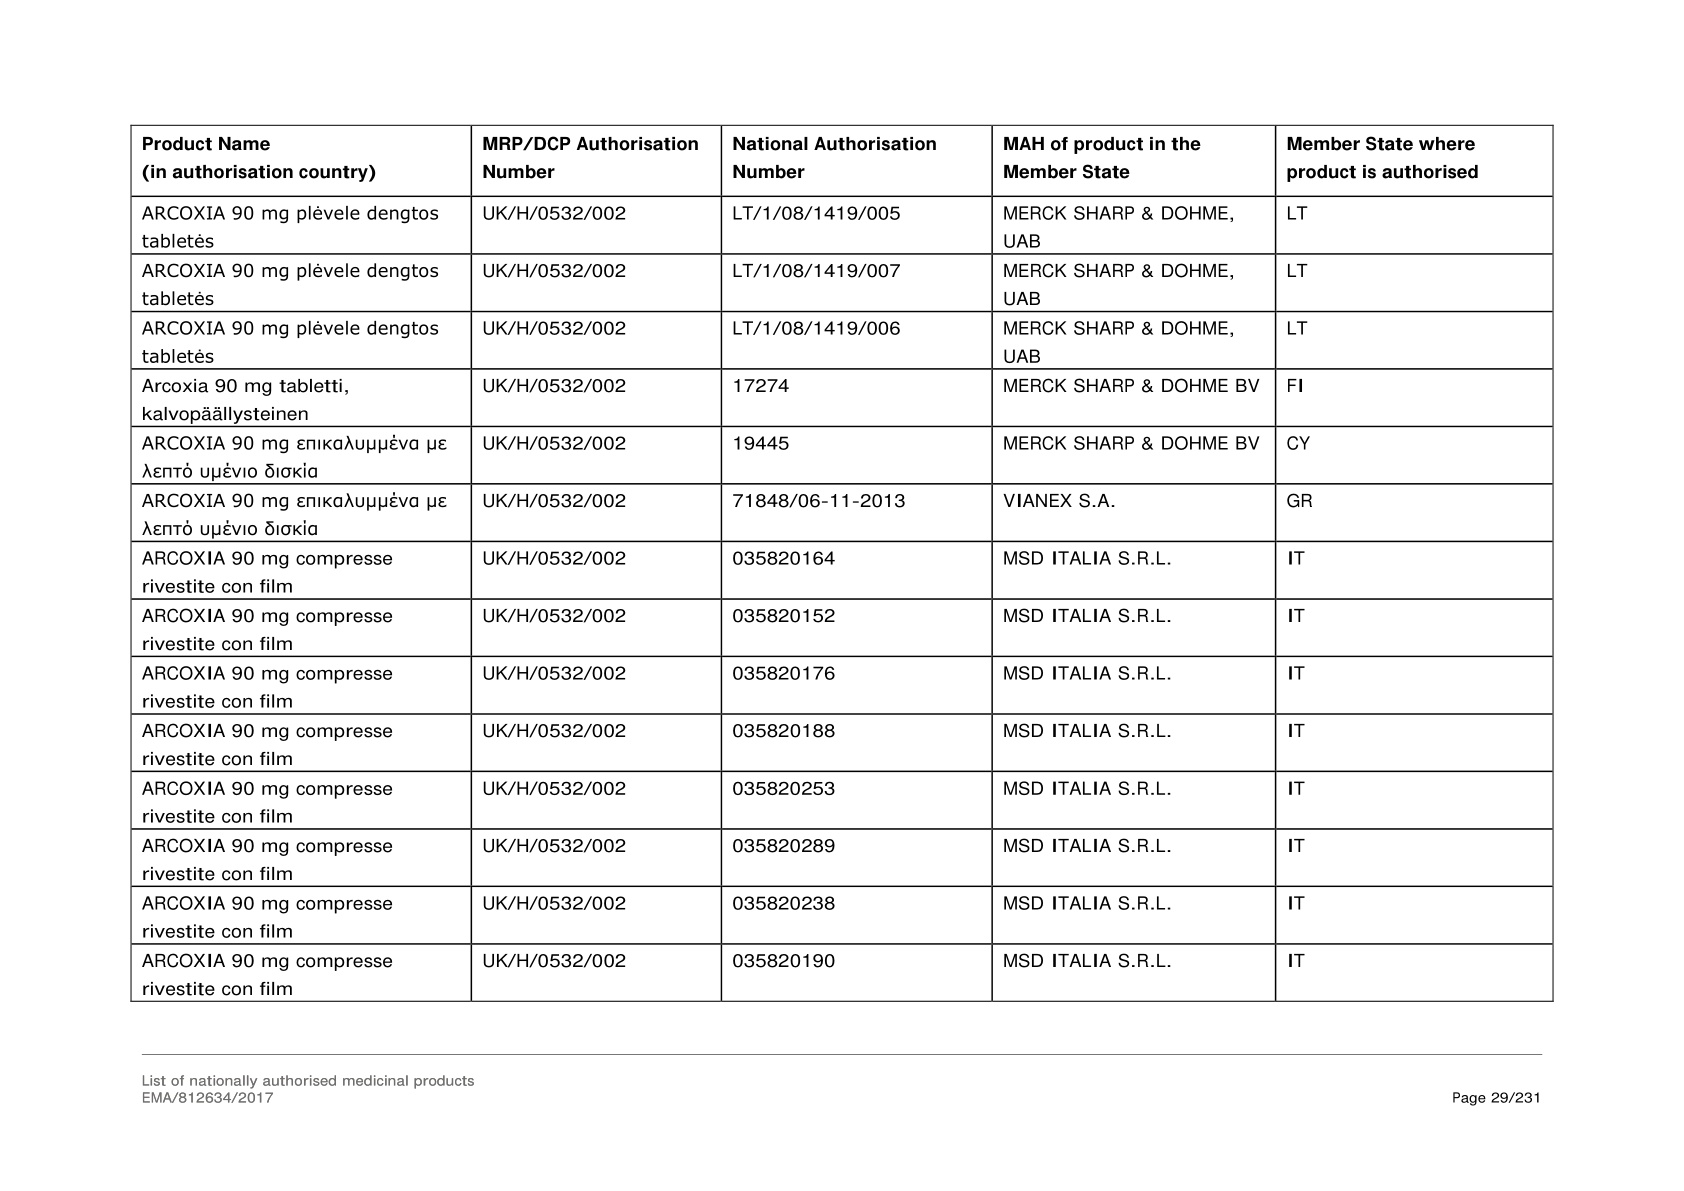full_lined: (128, 124, 1555, 1003)
